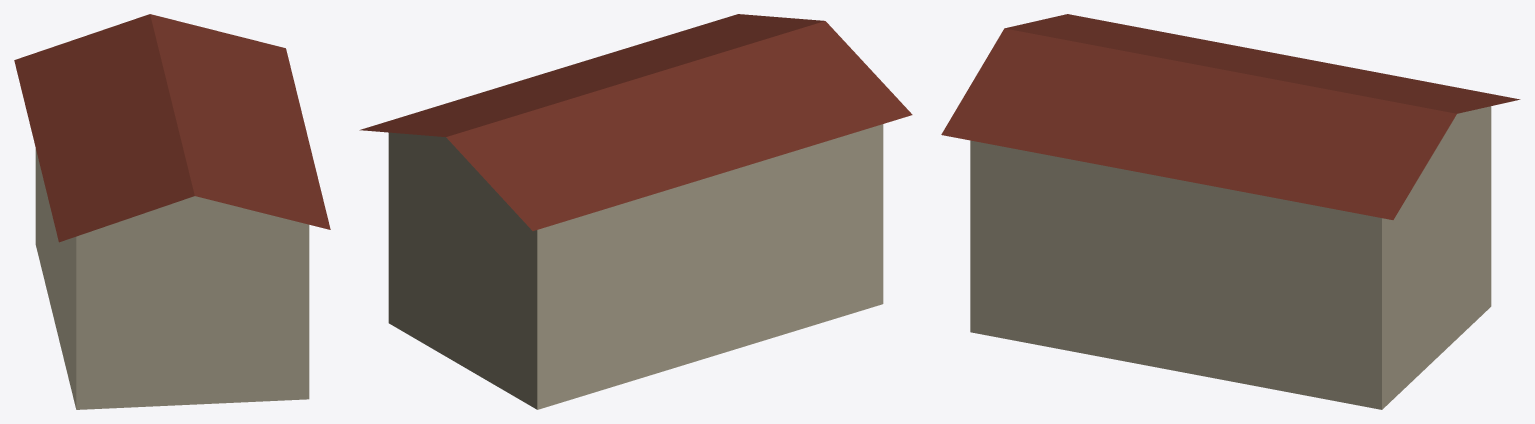
The picture shows the model from 3 angles, left to right: view 1: azimuth 30°, elevation 25°; view 2: azimuth 150°, elevation 25°; view 3: azimuth 270°, elevation 25°; orthographic projection. The views are drawn at different scales.
Parts seen in each view (by area): view 1: buildings; view 2: buildings; view 3: buildings.
Boxes of the visible parts, x1,y1,x2,y2 form: buildings: [14, 14, 330, 409]; buildings: [359, 14, 912, 409]; buildings: [941, 14, 1520, 409].
Bounding box in the file's own units: 6.57 × 3.69 × 7.81.
